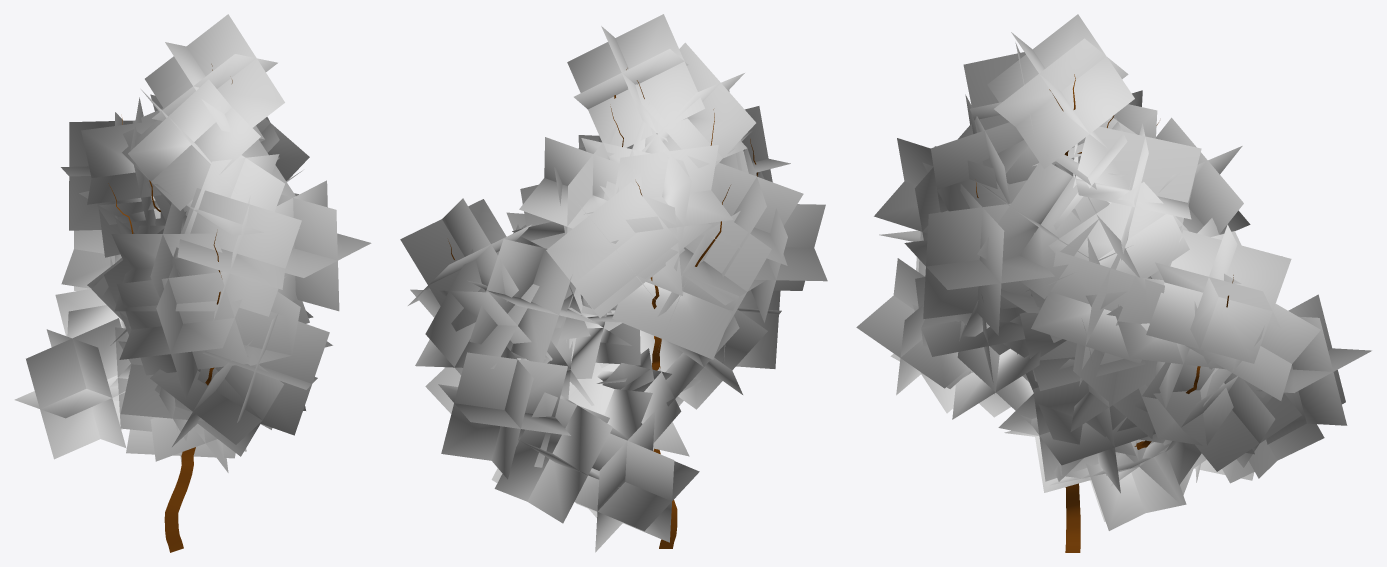
Rendered from tree1_LOD2.fbx.
The picture shows the model from 3 angles, left to right: view 1: azimuth 30°, elevation 25°; view 2: azimuth 150°, elevation 25°; view 3: azimuth 270°, elevation 25°; orthographic projection. The views are drawn at different scales.
Parts seen in each view (by area): view 1: transform1; view 2: transform1; view 3: transform1.
Part boxes in pixels (bbox=[...]): transform1: bbox=[14, 14, 371, 552]; transform1: bbox=[400, 14, 827, 552]; transform1: bbox=[856, 14, 1371, 552].
Size of the model in its own units: 453 by 746 by 640.
